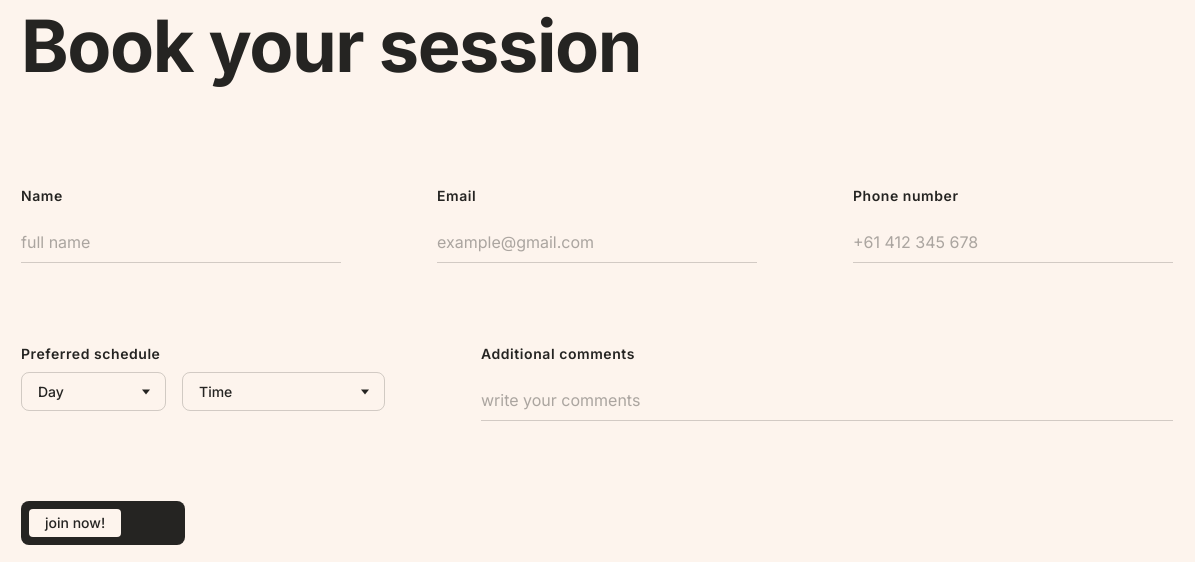
Test case: BookingSection › disables the submit button while loading
Type "Jane Smith" into the field labelled "Name".
click(181, 243); type("Jane Smith")  # box [21, 222, 341, 263]
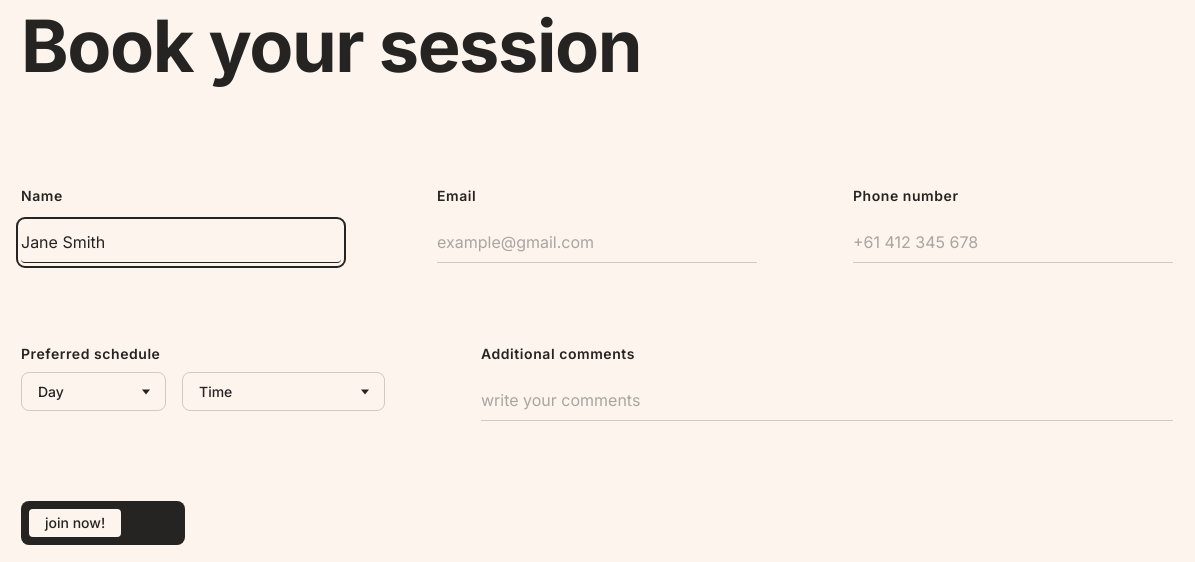
Type "jane@example.com" into the field labelled "Email".
click(597, 243); type("jane@example.com")  # box [437, 222, 757, 263]
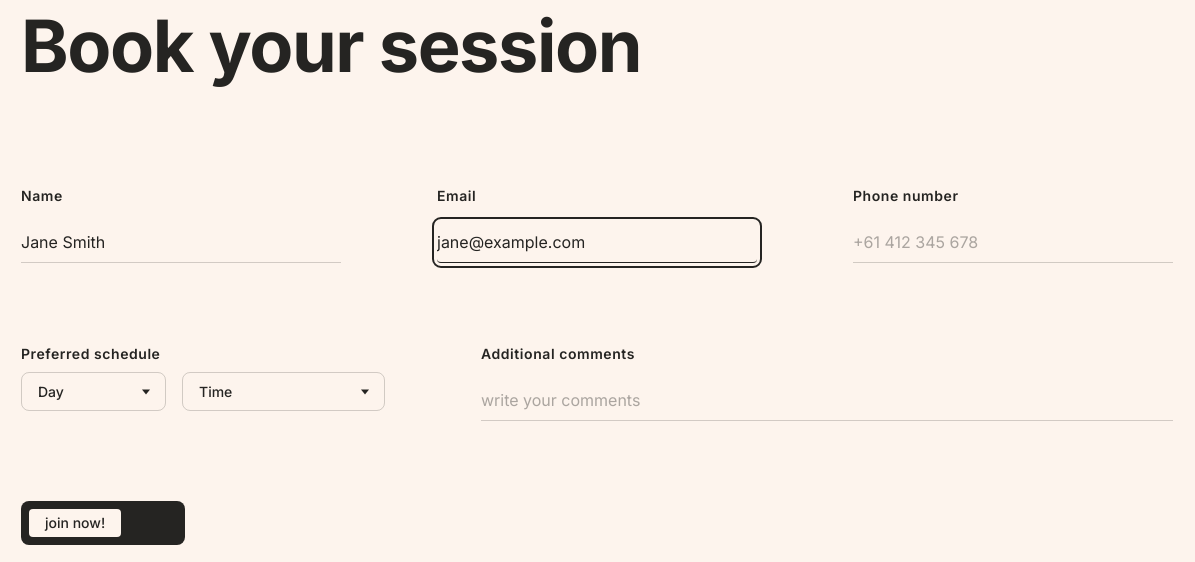
Type "0412345678" into the field labelled "Phone number".
click(1013, 243); type("0412345678")  # box [853, 222, 1173, 263]
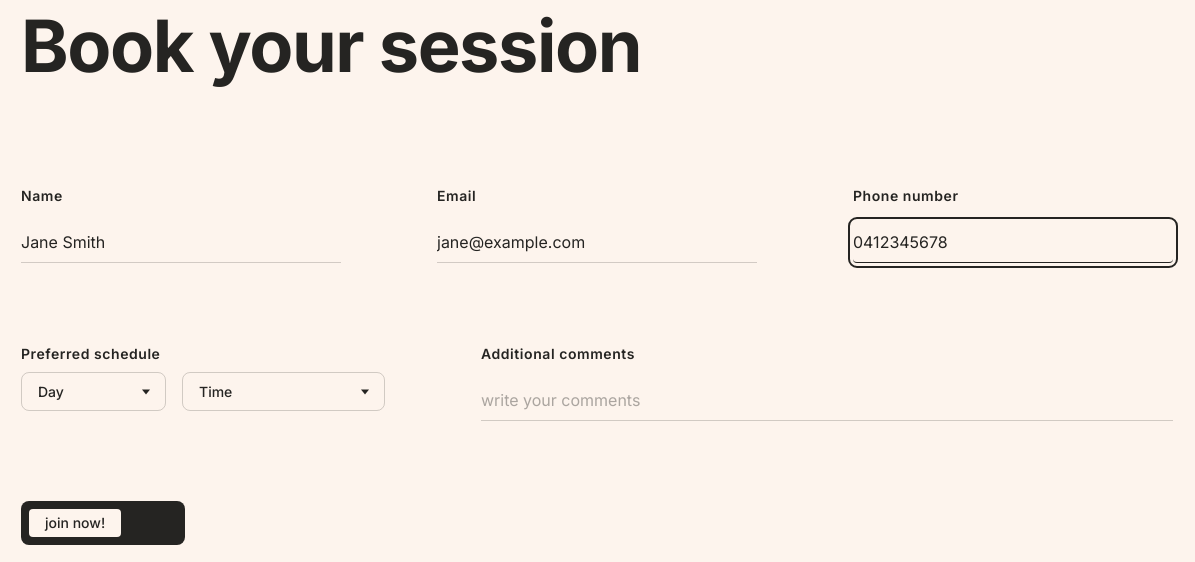
Select "Monday" in the dropdown named "day of the week" at (94, 392), box [21, 372, 166, 411]
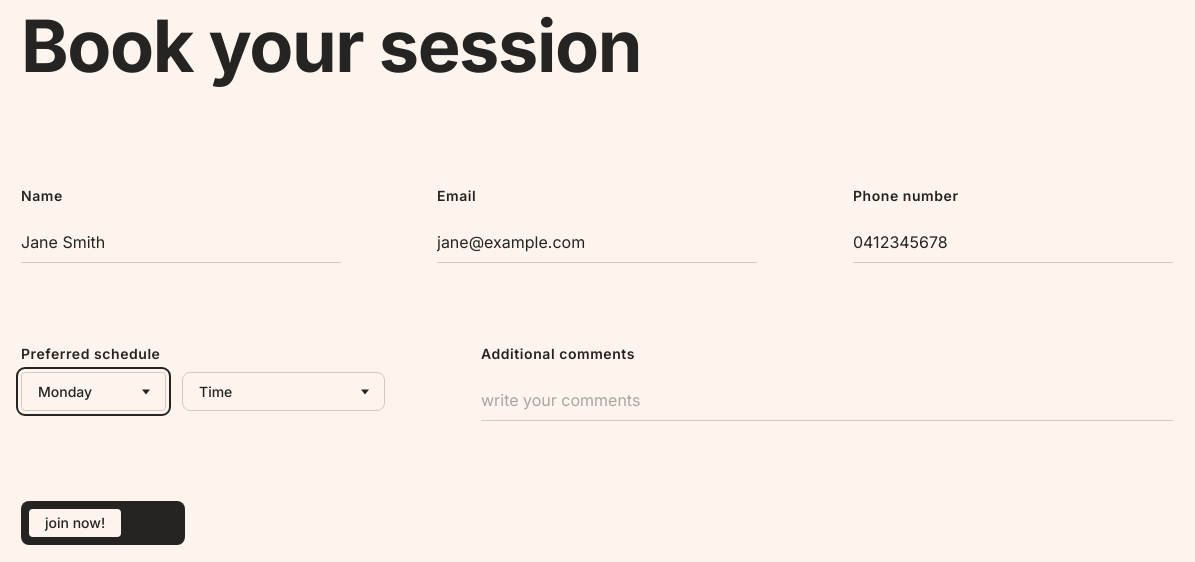
Select "10:00am – 12:00pm" in the dropdown named "preferred time slot" at (284, 392), box [182, 372, 385, 411]
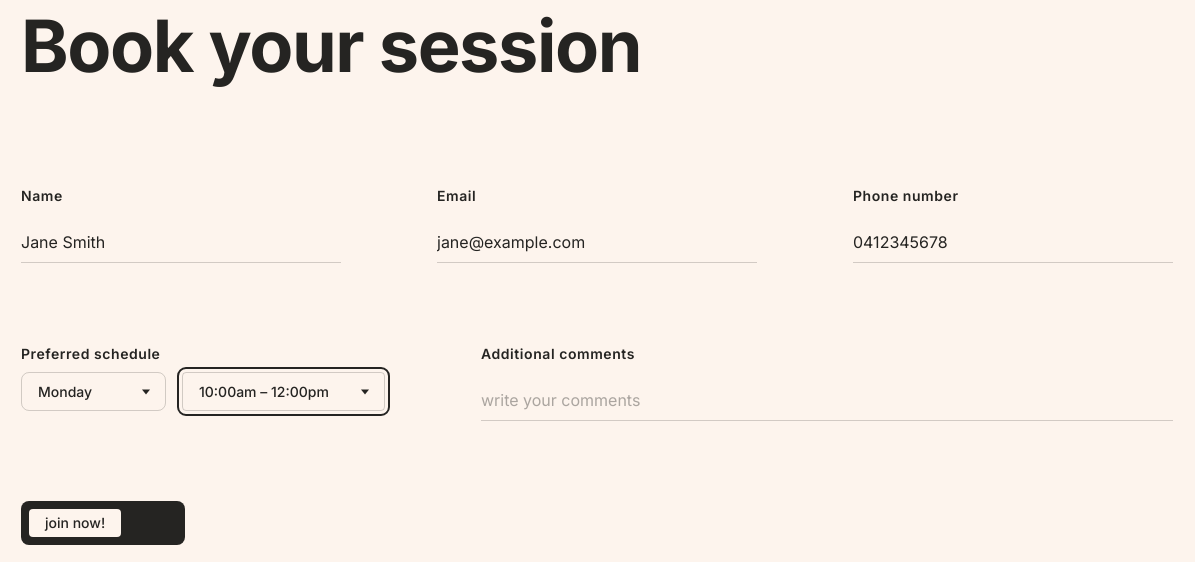
Click the button "join now!".
click(103, 523)  # box [21, 501, 185, 545]
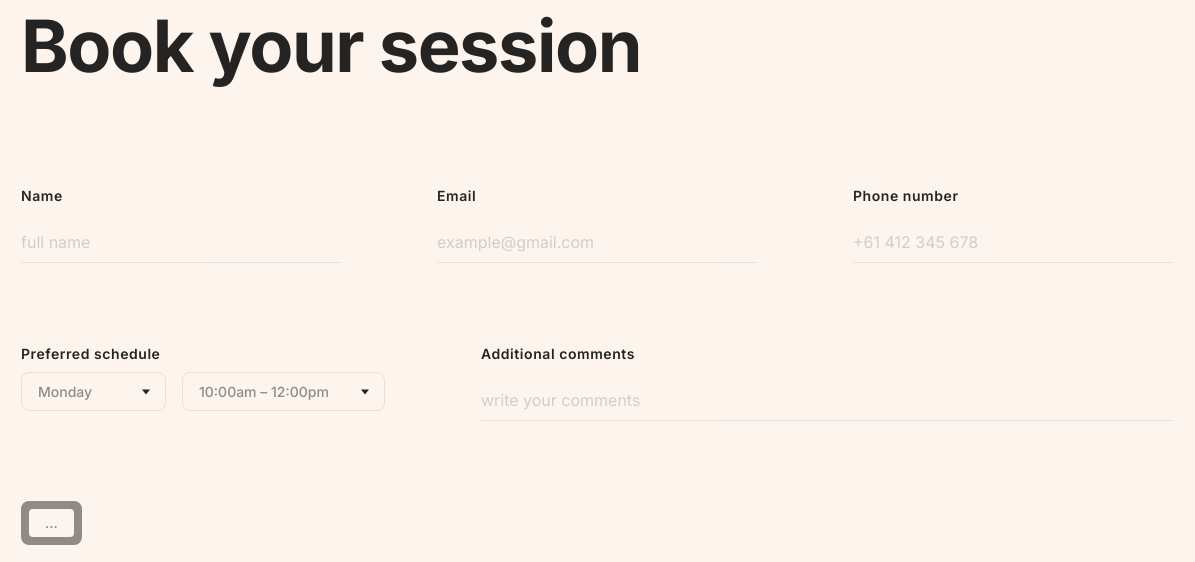
Now the button "..." is disabled, box [21, 501, 82, 545]
